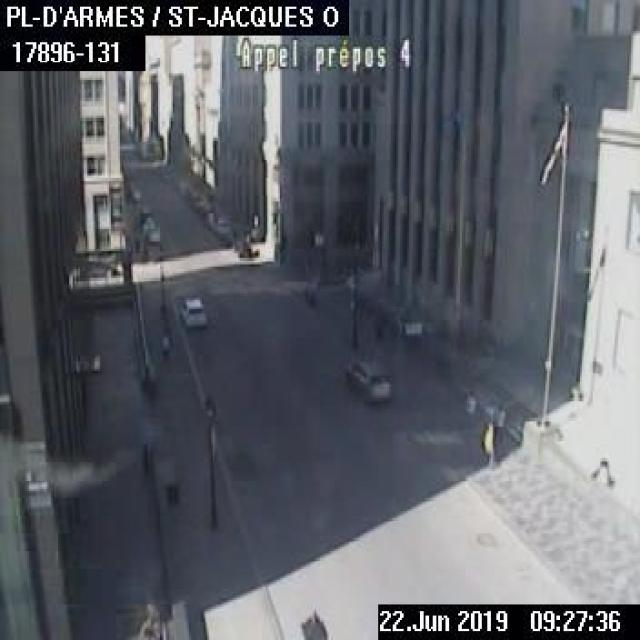pedestrian: (489, 400, 505, 450), (463, 389, 475, 421), (160, 332, 168, 360)
vehicle: (344, 353, 389, 402), (179, 293, 206, 329), (83, 254, 113, 274), (232, 232, 253, 256), (141, 218, 160, 242)
